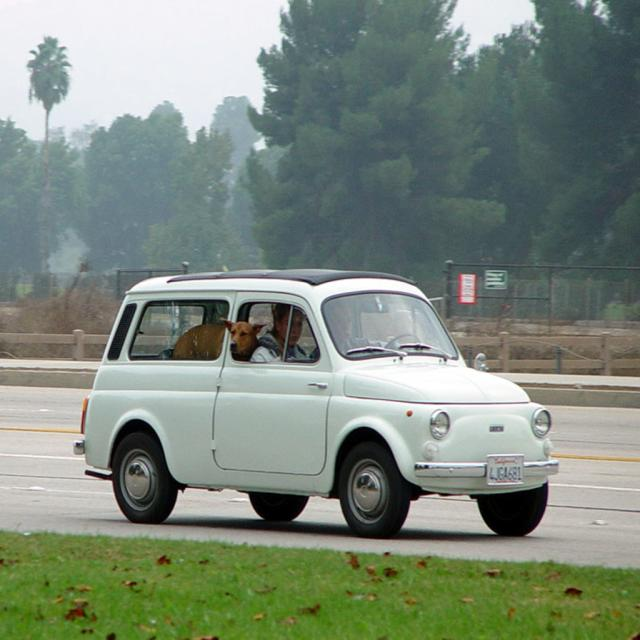car: (73, 271, 560, 536)
